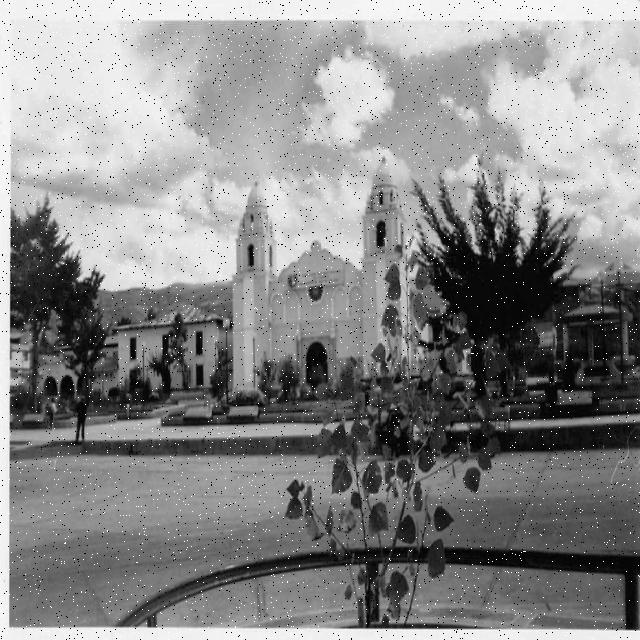CAMPANARIO: (205, 226, 296, 294), (352, 205, 428, 281)
CUPULA: (216, 179, 296, 226), (350, 156, 407, 203)
PORTADA CENTRAL: (300, 333, 338, 402)
SIMETRIA COLONIAL: (203, 156, 432, 430)
TORRES: (364, 146, 419, 413), (225, 166, 278, 422)
colonial-architecture-: (8, 144, 482, 408)
